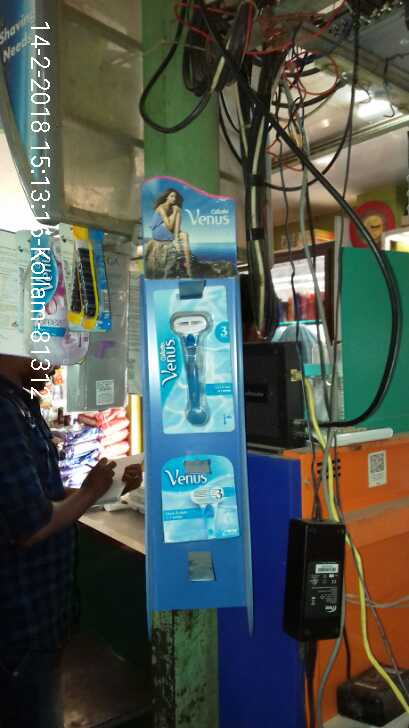venus: (151, 281, 233, 435), (153, 455, 241, 547)
